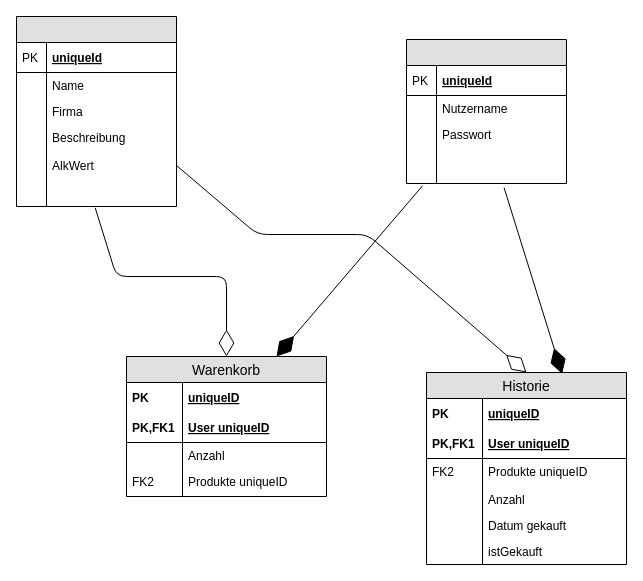
Some shapes in this 643 by 581 pixel diagram are drawn without their labels. The shapes that lost their labels are listed below. From the top down, each one's box as (x1, y1, x2, y2) in pixels, then its label:
(16, 16, 176, 206): Produkte
(406, 38, 566, 184): User
